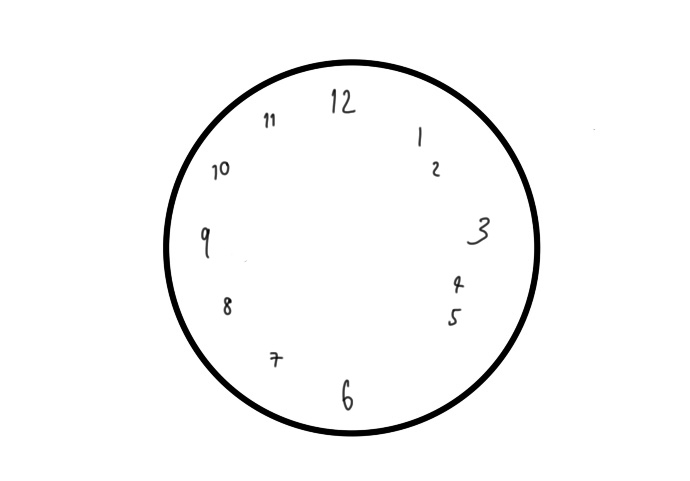eight: (218, 292, 236, 319)
eleven: (258, 108, 282, 130)
five: (446, 307, 464, 327)
four: (452, 273, 465, 295)
nine: (197, 221, 217, 261)
one: (416, 119, 425, 149)
seven: (266, 349, 284, 368)
six: (338, 375, 357, 413)
ten: (209, 157, 233, 182)
three: (465, 211, 490, 247)
twelve: (329, 84, 359, 115)
two: (427, 160, 443, 177)
